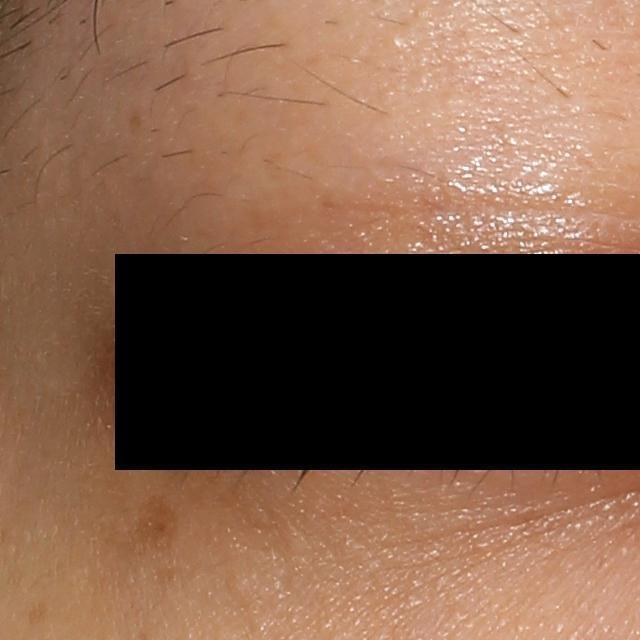melasma: (121, 488, 180, 557), (24, 596, 51, 625)
